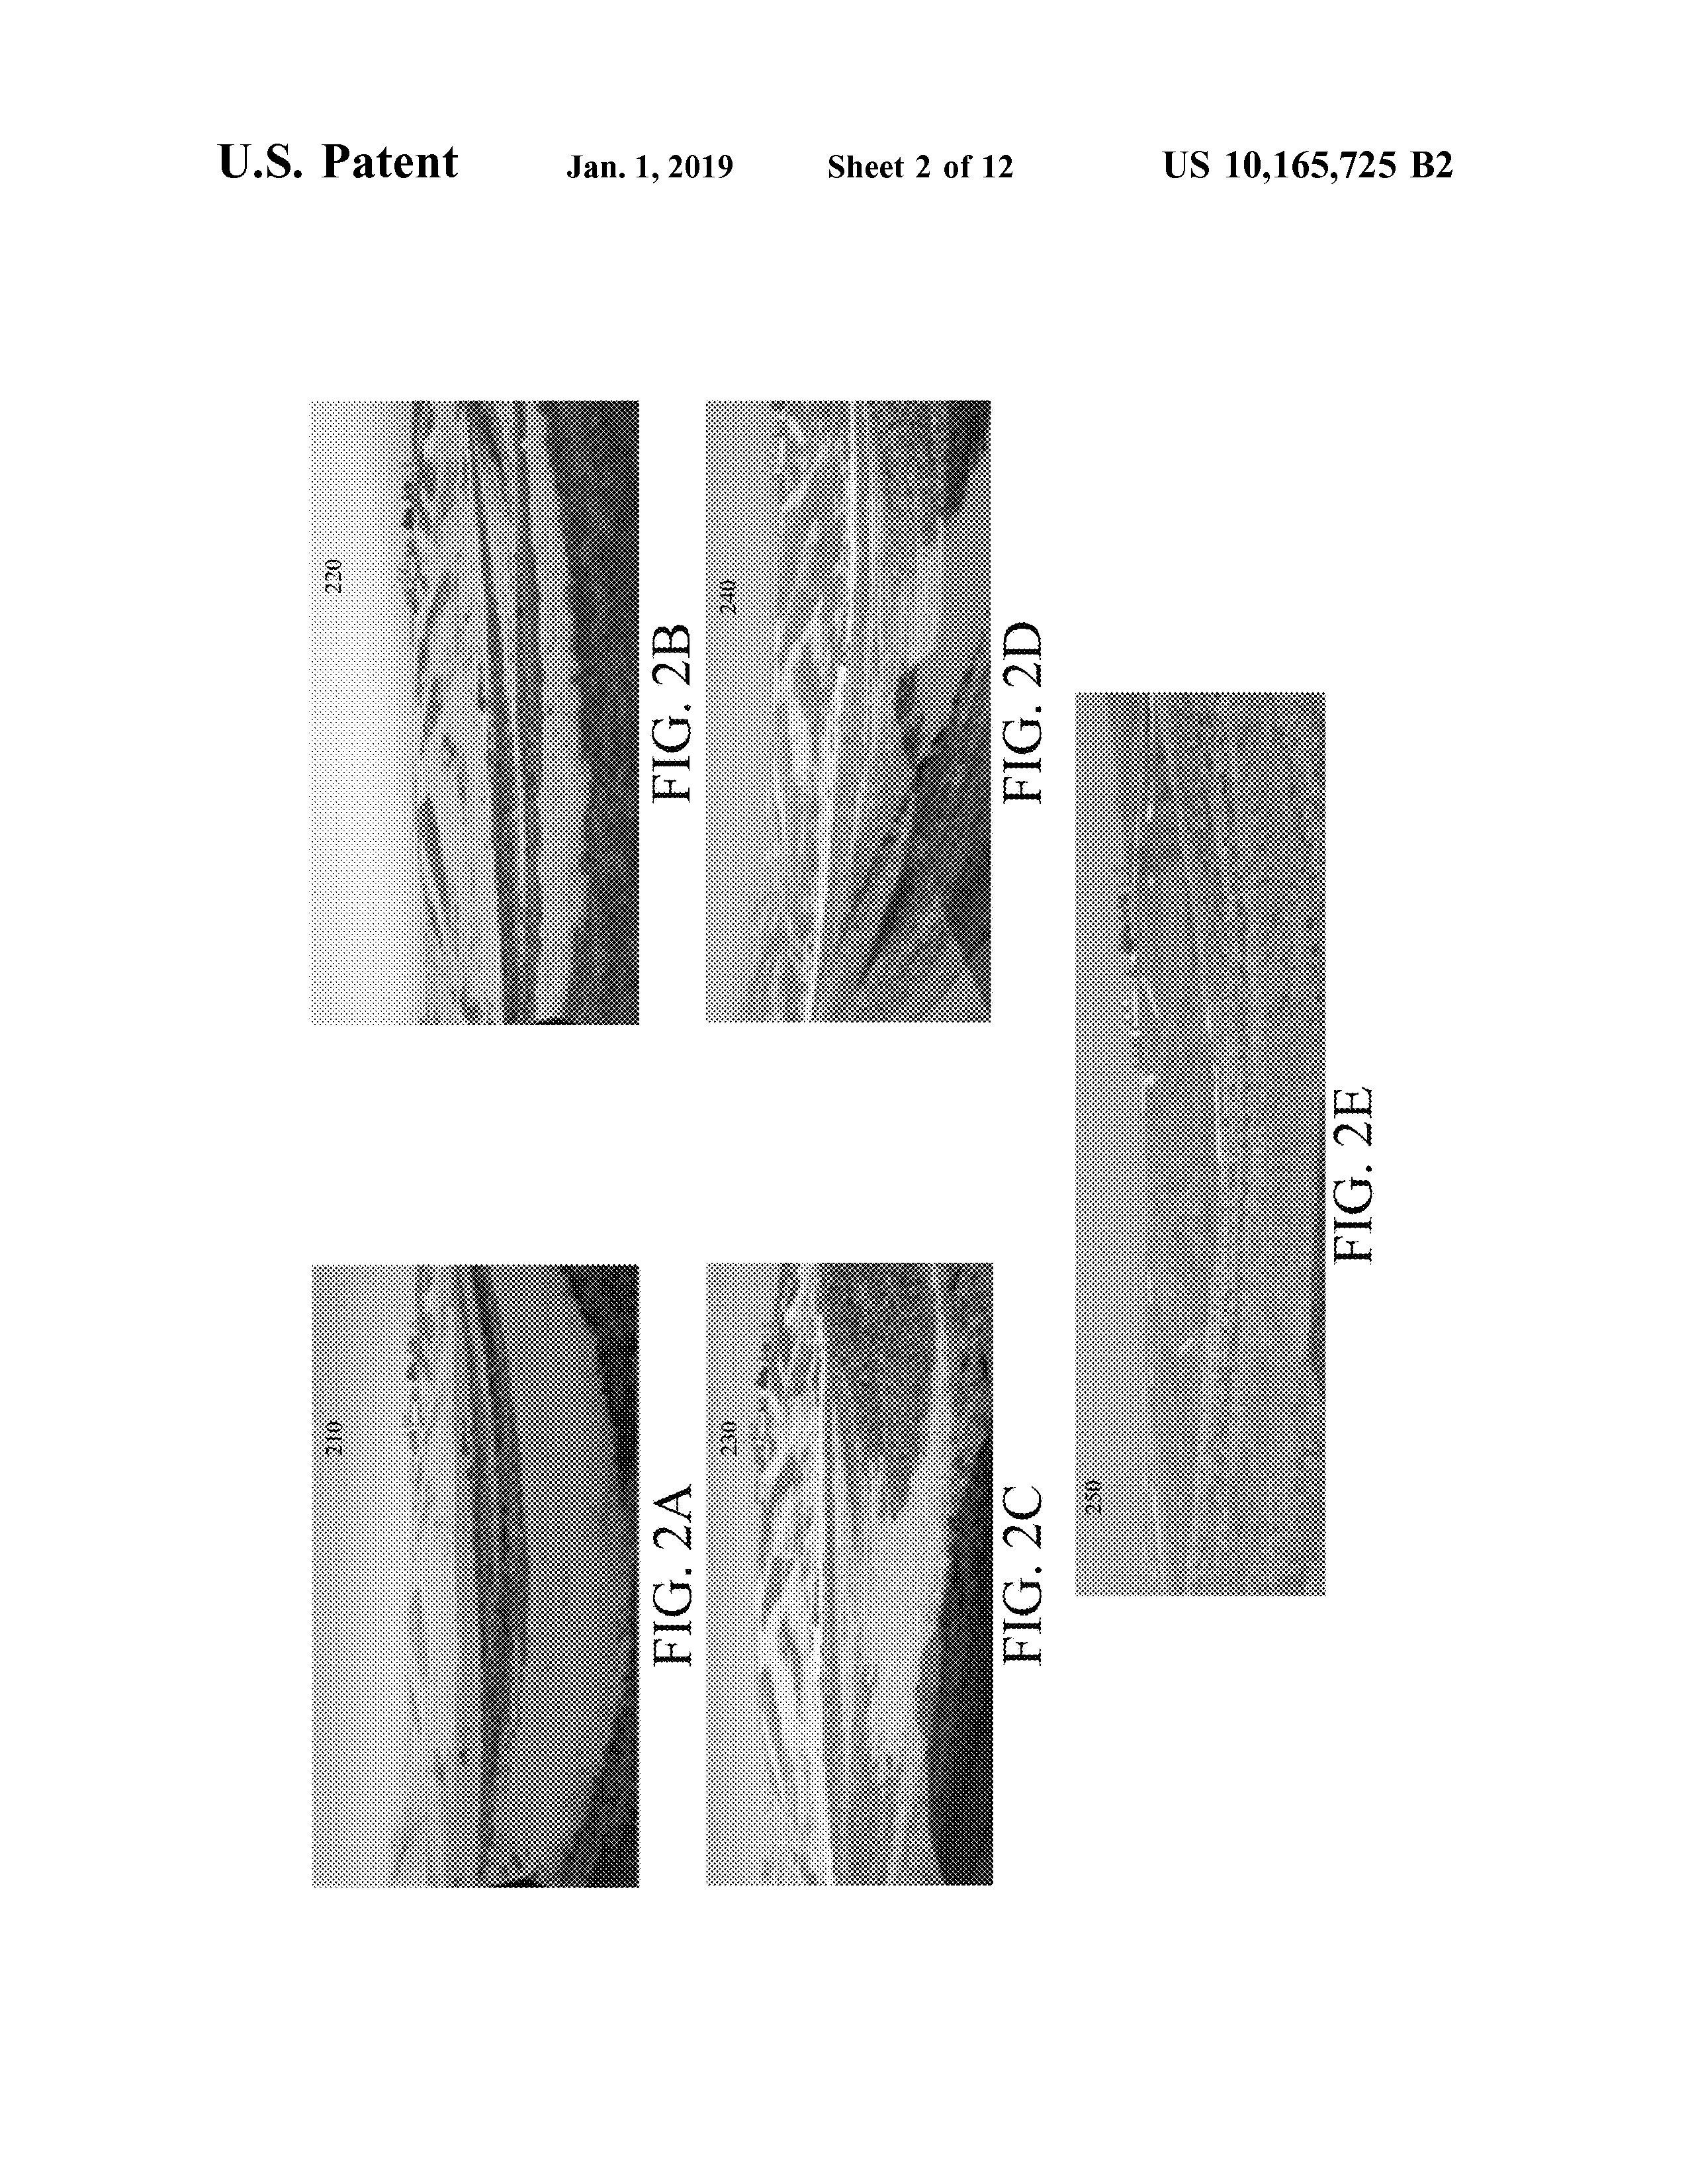patent image: (1064, 673, 1400, 1620), (279, 380, 699, 1050), (296, 1243, 699, 1939), (699, 1243, 1052, 1922), (701, 380, 1052, 1059)
